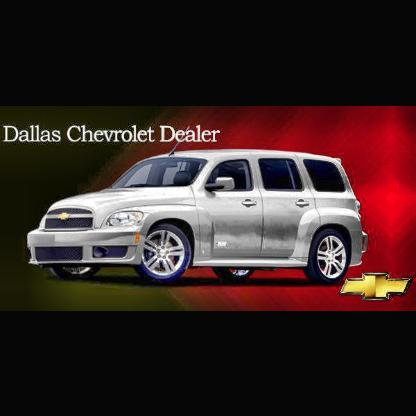Chevrolet HHR SS 2010: (28, 146, 369, 286)
